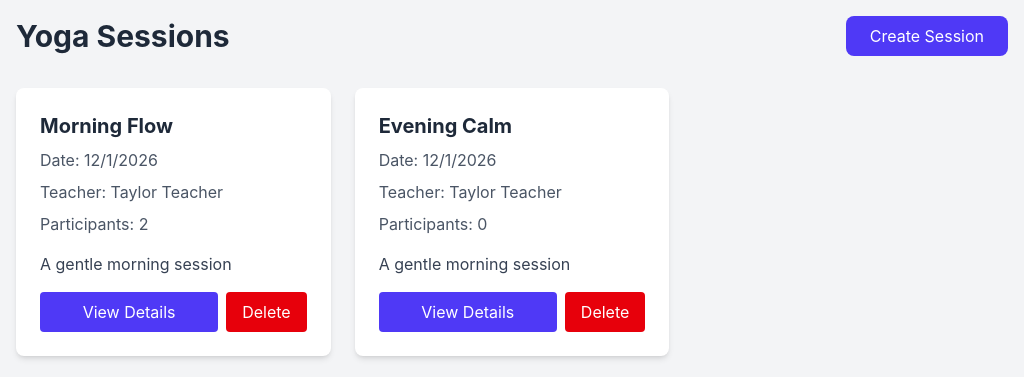
Scenario: Sessions page › renders a session and removes only it after an admin confirms deletion
Expected: the heading "Morning Flow" is shown, [40,114,173,138]
Expected: the text "Participants: 2" is shown, [40,214,148,234]
Click the button "Delete" below "Morning Flow" at (266, 312), box [226,292,307,332]
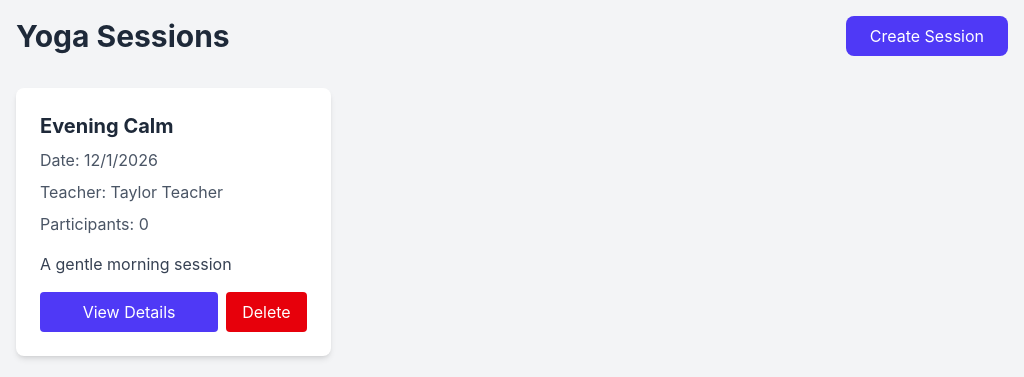
Expected: the heading "Evening Calm" is shown, [40,114,174,138]
Now the heading "Morning Flow" is gone
